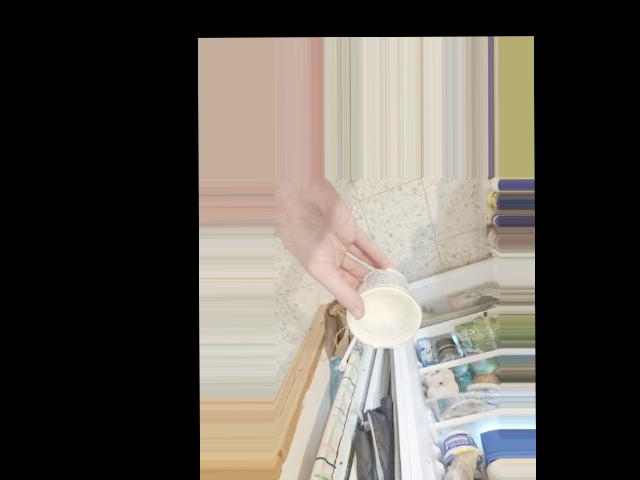cotage: (357, 264, 410, 357)
